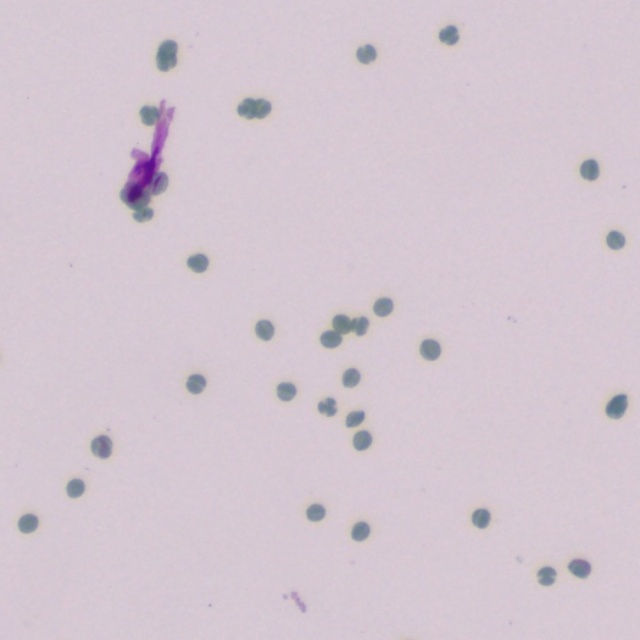non_viable: (237, 98, 270, 118), (156, 40, 177, 70), (606, 394, 627, 417), (91, 435, 111, 457), (420, 339, 440, 359), (187, 253, 207, 272), (356, 44, 376, 63), (255, 319, 273, 340), (568, 559, 590, 576), (186, 374, 205, 393), (439, 25, 458, 44), (580, 159, 598, 179), (18, 514, 38, 532), (66, 478, 84, 497), (606, 231, 624, 249), (306, 503, 324, 521), (351, 522, 369, 540), (345, 409, 363, 427), (276, 383, 295, 400), (342, 368, 359, 387), (472, 508, 489, 527), (334, 316, 354, 332), (132, 205, 152, 221), (538, 567, 555, 585), (318, 397, 335, 415), (141, 107, 159, 123), (374, 299, 391, 314), (322, 331, 340, 345), (350, 318, 366, 333), (355, 431, 369, 448)
